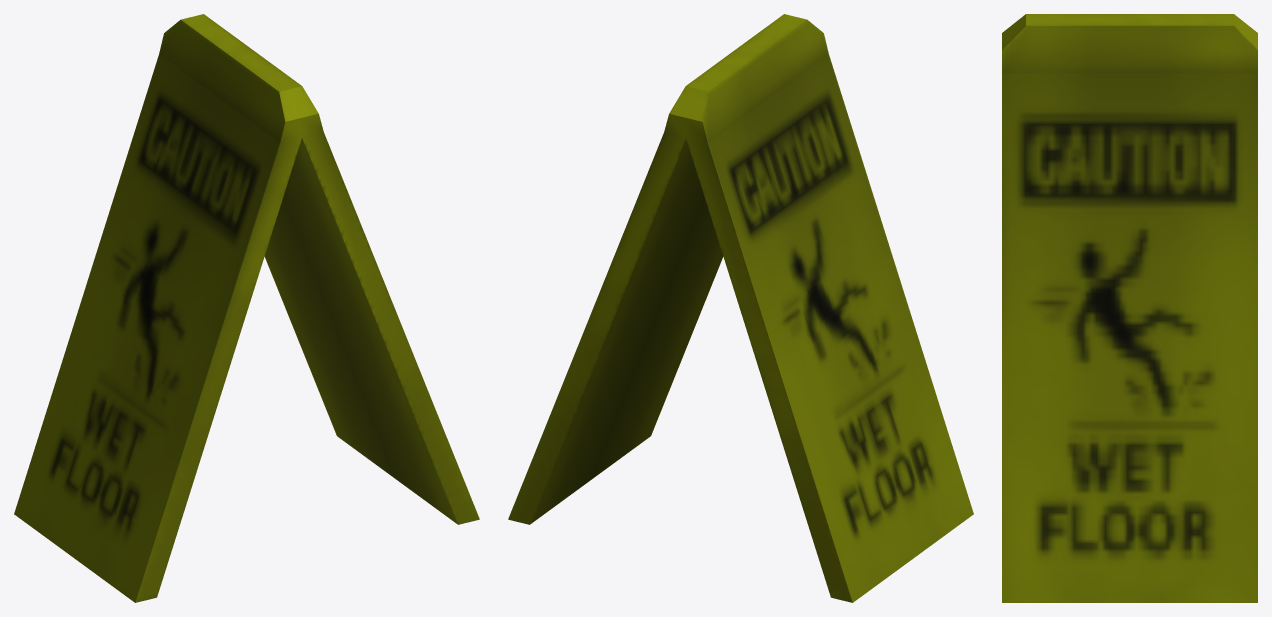
The model's file is wet_floor.fbx.
3 renders of one model, left to right at view 1: azimuth 30°, elevation 25°; view 2: azimuth 150°, elevation 25°; view 3: azimuth 270°, elevation 25°, orthographic. The views are drawn at different scales.
Visible parts, largest first — view 1: wet_floor; view 2: wet_floor; view 3: wet_floor.
Boxes of the visible parts, x1=… form: wet_floor: x1=14, y1=14, x2=479, y2=602; wet_floor: x1=508, y1=14, x2=973, y2=602; wet_floor: x1=1002, y1=14, x2=1257, y2=602.
Size of the model in its own units: 0.9604 by 1.24 by 0.5851.
Materials: 1 (1 with a texture image).
